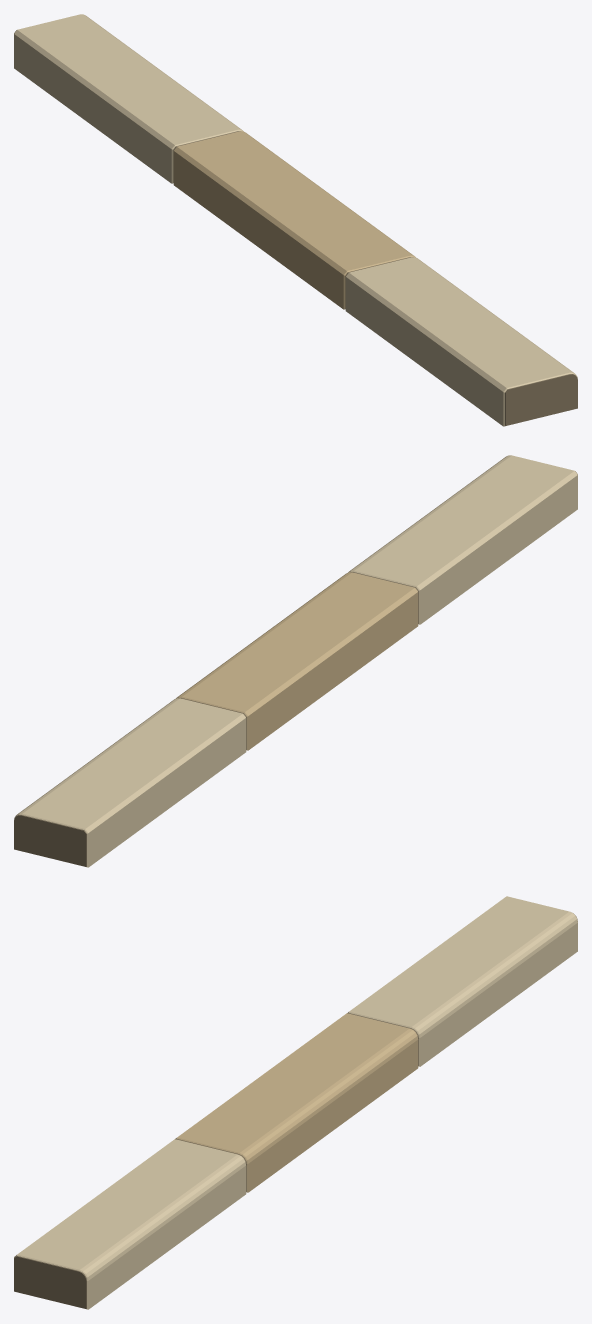
3 views of the same model, one above another, from view 1: azimuth 30°, elevation 25°; view 2: azimuth 150°, elevation 25°; view 3: azimuth 330°, elevation 25° (orthographic).
Parts seen in each view (by area): view 1: Mesh_Curb_Limestone, Mesh_Curb_Travertine, Mesh_Curb_Joints; view 2: Mesh_Curb_Limestone, Mesh_Curb_Travertine, Mesh_Curb_Joints; view 3: Mesh_Curb_Limestone, Mesh_Curb_Travertine, Mesh_Curb_Joints.
Boxes of the visible parts, x1,y1,x2,y2 form: Mesh_Curb_Limestone: [14, 14, 577, 426]; Mesh_Curb_Travertine: [173, 131, 415, 309]; Mesh_Curb_Joints: [14, 30, 577, 425]; Mesh_Curb_Limestone: [14, 455, 577, 867]; Mesh_Curb_Travertine: [176, 572, 418, 750]; Mesh_Curb_Joints: [14, 471, 577, 866]; Mesh_Curb_Limestone: [14, 896, 577, 1309]; Mesh_Curb_Travertine: [175, 1013, 418, 1192]; Mesh_Curb_Joints: [14, 913, 577, 1308].
Bounding box in the file's own units: 0.35 × 0.17 × 4.
